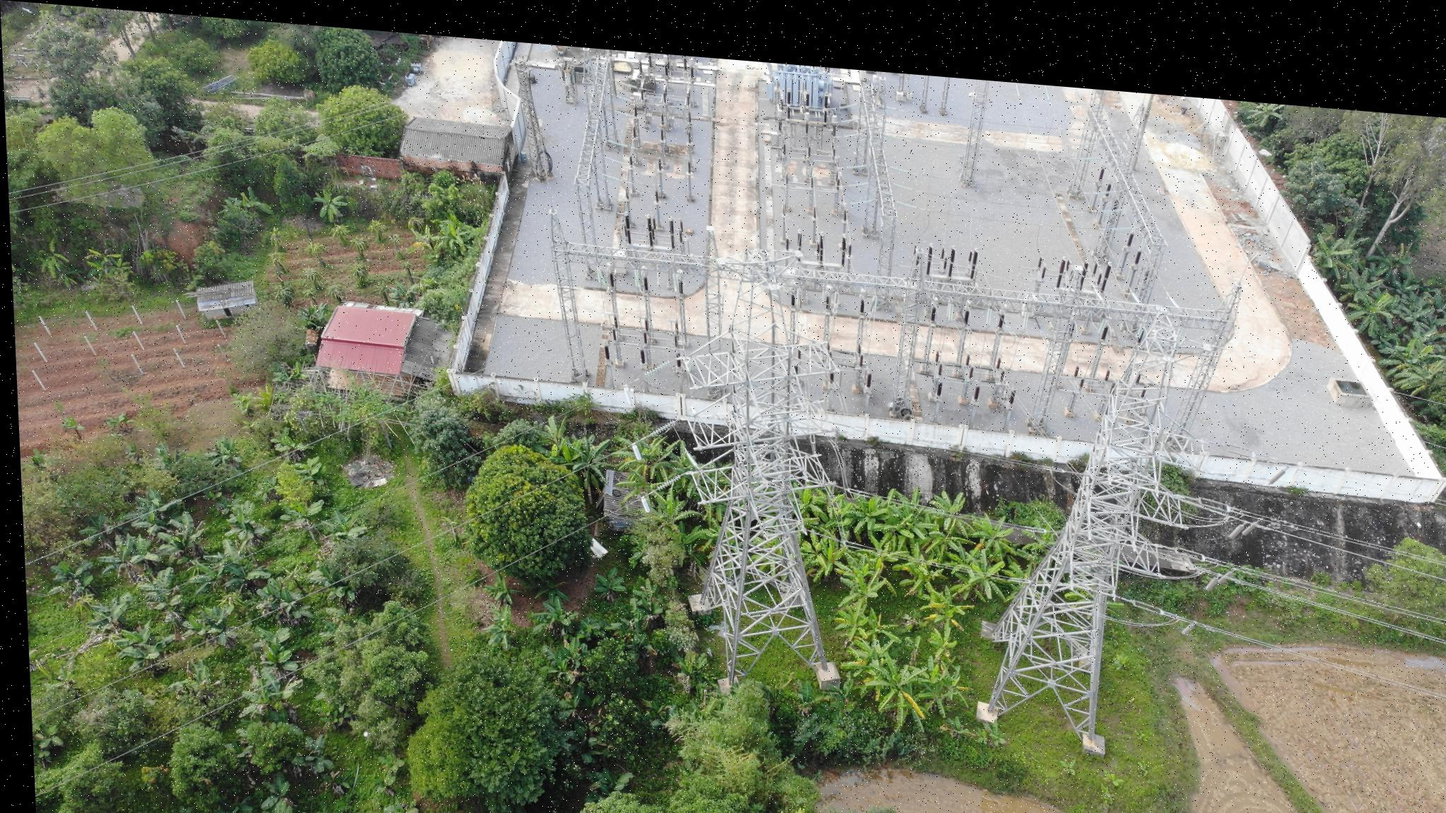tower: (951, 314, 1196, 769), (646, 225, 870, 721)
